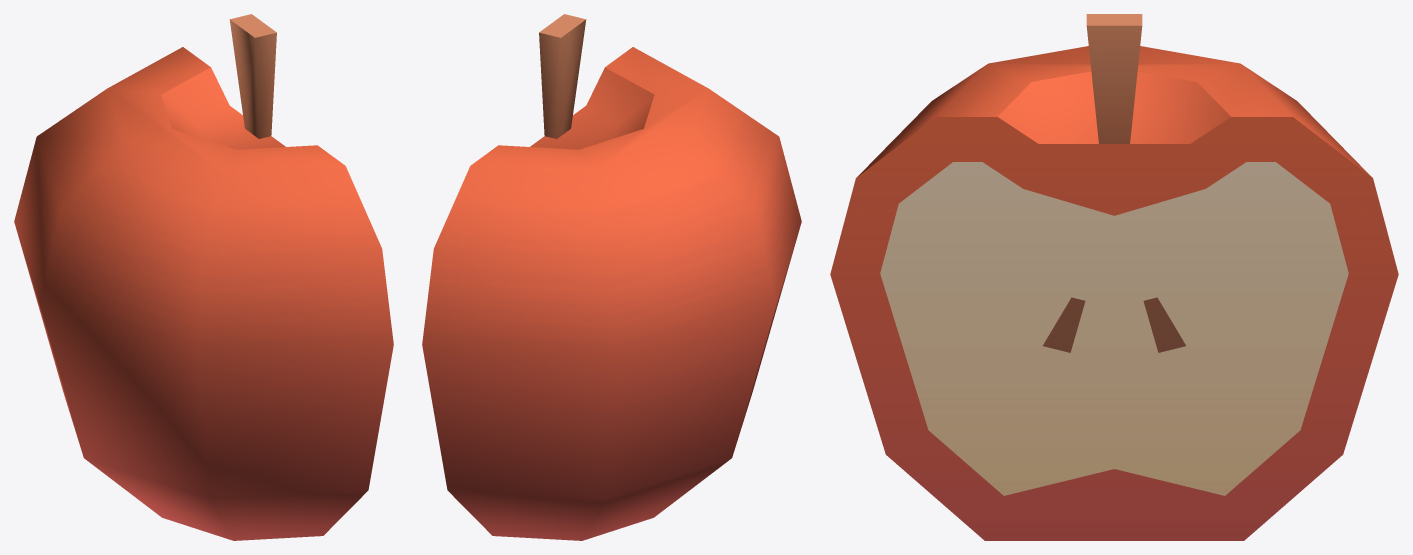
Rendered from apple_half.glb.
The picture shows the model from 3 angles, left to right: view 1: azimuth 30°, elevation 25°; view 2: azimuth 150°, elevation 25°; view 3: azimuth 270°, elevation 25°; orthographic projection. The views are drawn at different scales.
Visible parts, largest first — view 1: apple-half; view 2: apple-half; view 3: apple-half.
Boxes of the visible parts, <box> form: apple-half: <box>14,14,393,540</box>; apple-half: <box>422,14,801,540</box>; apple-half: <box>830,14,1398,540</box>.
Bounding box in the file's own units: 0.25 × 0.5 × 0.5.
Materials: 1 (1 with a texture image).
